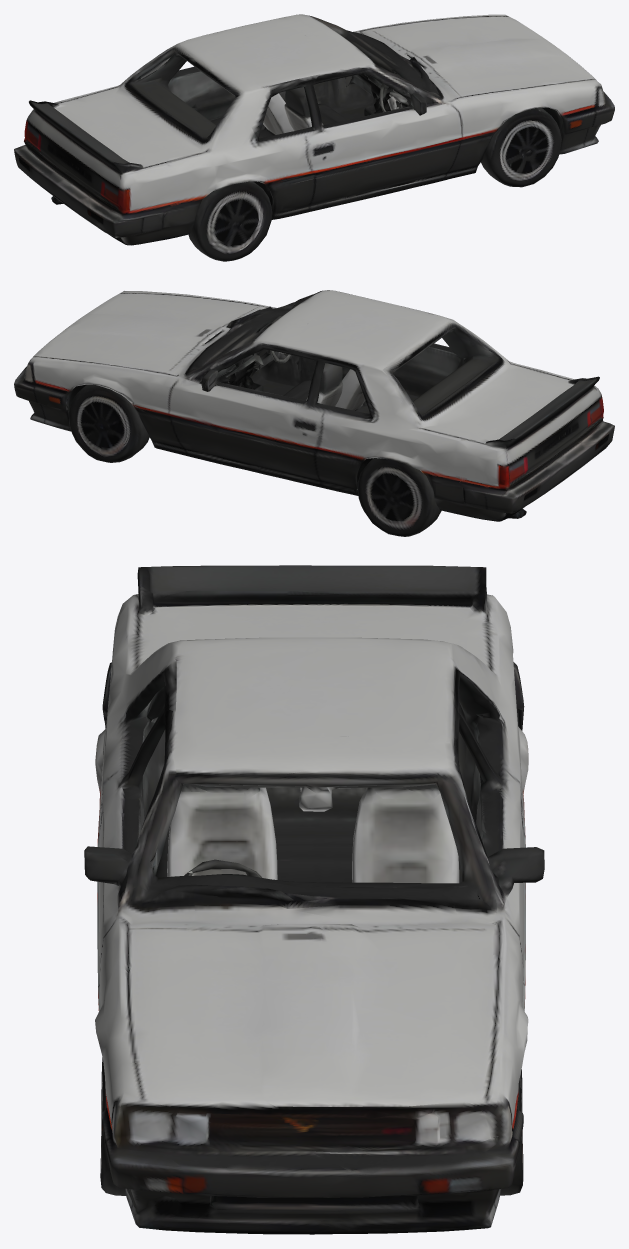
The model's file is model_pbr.glb.
3 renders of one model, top to bottom at view 1: azimuth 30°, elevation 25°; view 2: azimuth 150°, elevation 25°; view 3: azimuth 270°, elevation 25°, orthographic. The views are drawn at different scales.
Visible parts, largest first — view 1: tripo_node_044a189b-ad8e-4209-a4f5-ad1fc3dcb98f; view 2: tripo_node_044a189b-ad8e-4209-a4f5-ad1fc3dcb98f; view 3: tripo_node_044a189b-ad8e-4209-a4f5-ad1fc3dcb98f.
Boxes of the visible parts, bbox=[...] form: tripo_node_044a189b-ad8e-4209-a4f5-ad1fc3dcb98f: bbox=[14, 14, 614, 261]; tripo_node_044a189b-ad8e-4209-a4f5-ad1fc3dcb98f: bbox=[14, 290, 614, 536]; tripo_node_044a189b-ad8e-4209-a4f5-ad1fc3dcb98f: bbox=[84, 565, 544, 1234].
Size of the model in its own units: 0.9999 by 0.2801 by 0.386.
Materials: 1 (1 with a texture image).
